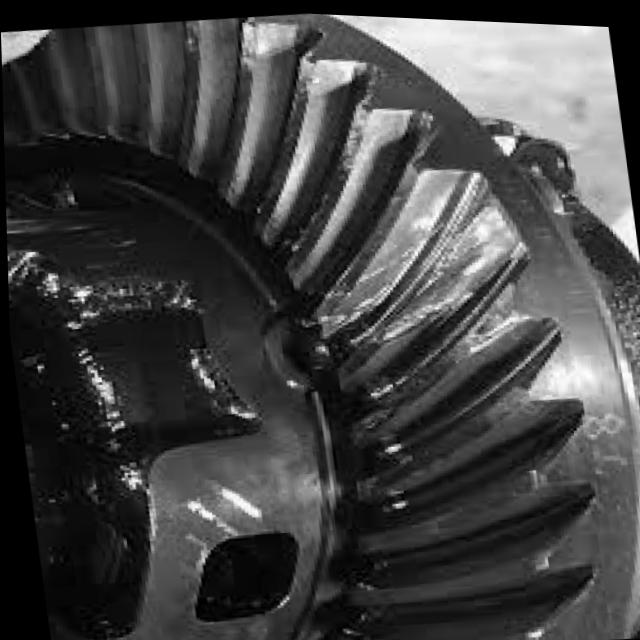Fault-Exist: (276, 66, 610, 638)
